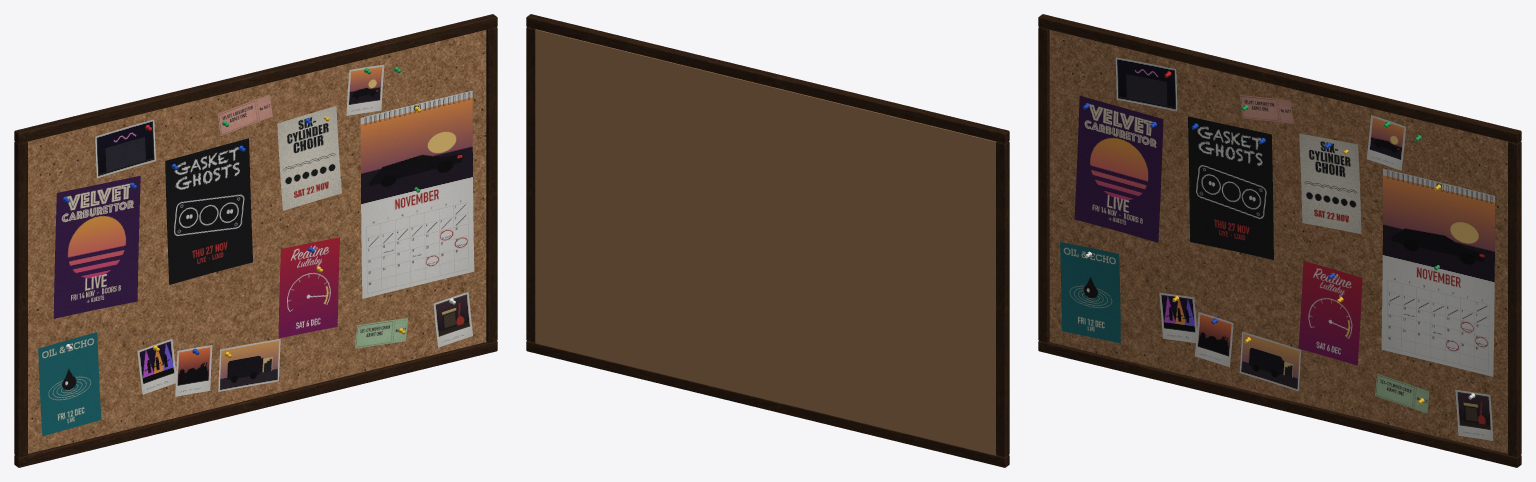
The model's file is corkboard.glb.
3 views of the same model, side by side, from view 1: azimuth 30°, elevation 25°; view 2: azimuth 150°, elevation 25°; view 3: azimuth 330°, elevation 25° (orthographic).
Visible parts, largest first — view 1: corkboard; view 2: corkboard; view 3: corkboard.
Part boxes in pixels (x1=…): corkboard: x1=14, y1=14, x2=497, y2=467; corkboard: x1=526, y1=14, x2=1009, y2=467; corkboard: x1=1038, y1=14, x2=1521, y2=467.
Bounding box in the file's own units: 1.2 × 0.8 × 0.0296.
Materials: 1 (1 with a texture image).
